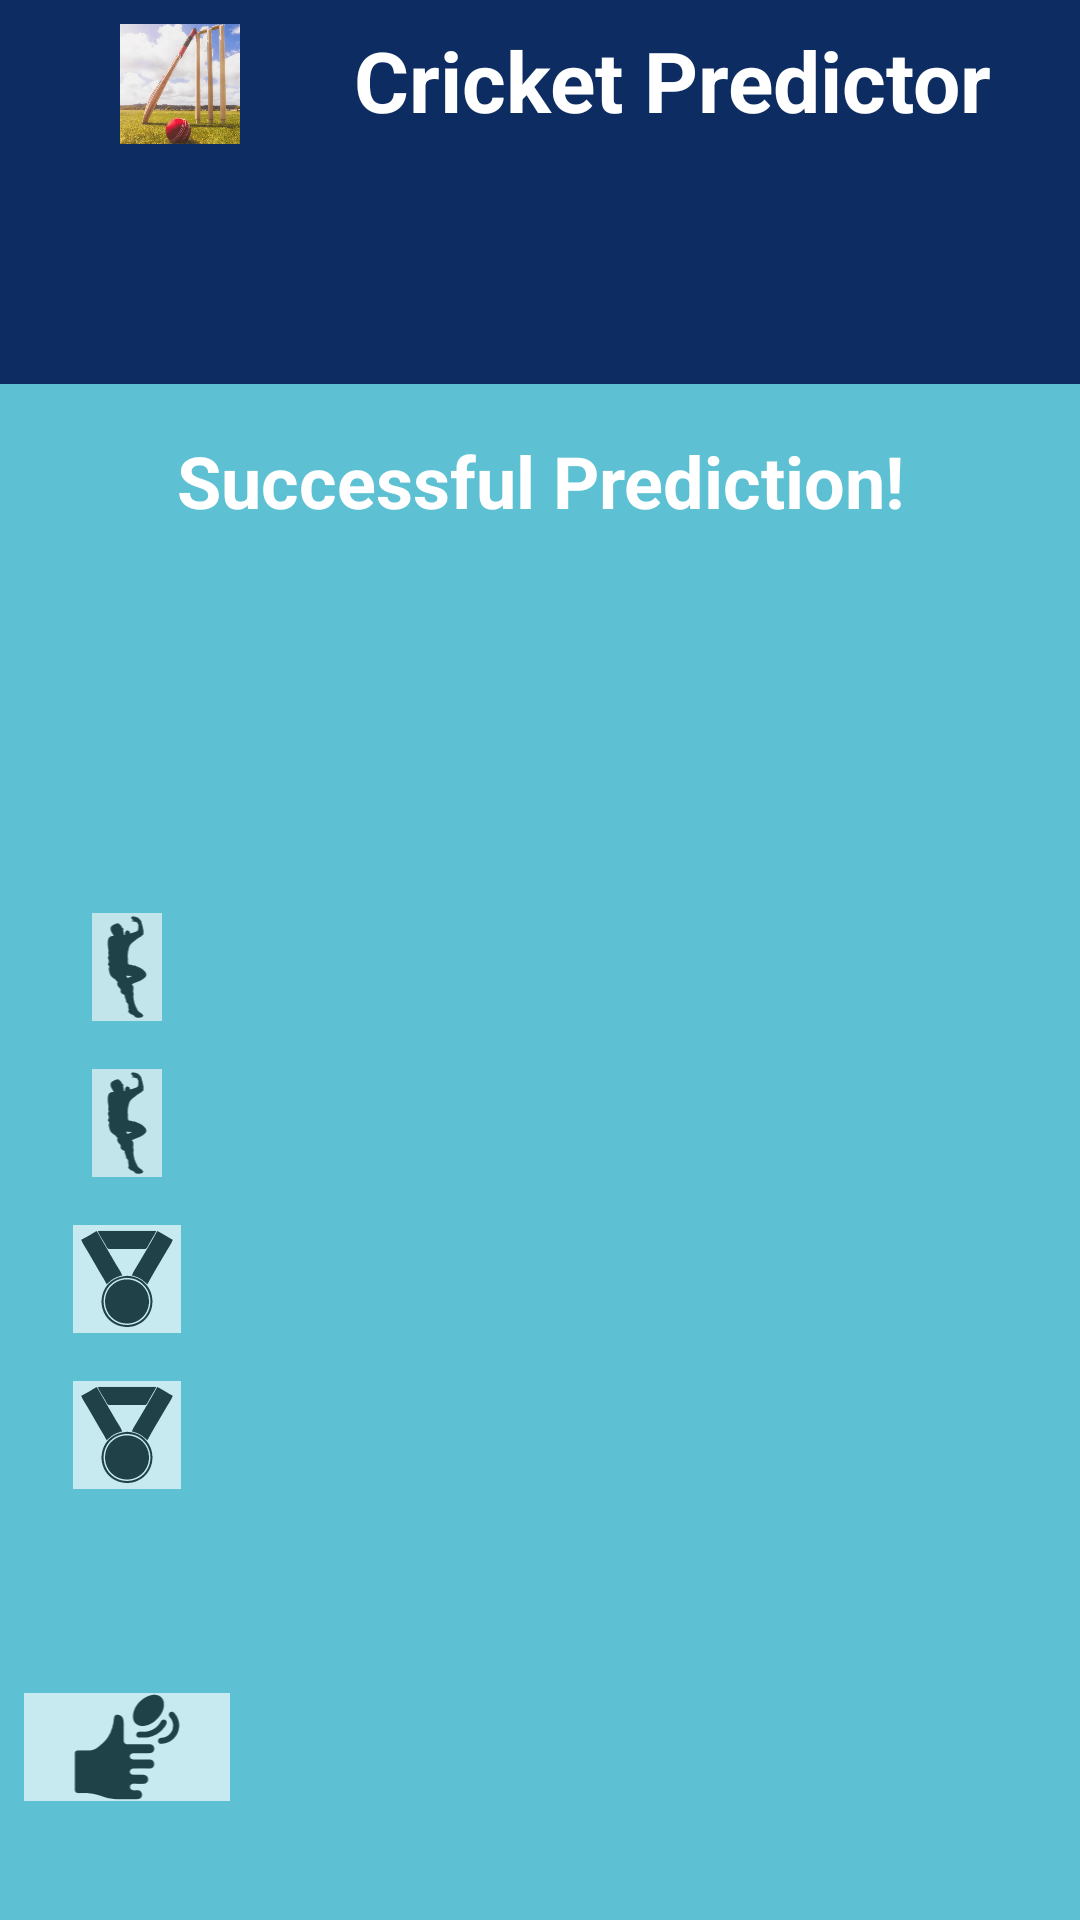

Locate icon controls on the screen. Image size 1080px×1920px, boxes as {"left": x1, "top": y1, "right": x2, "bottom": y2}.
bowler: {"left": 92, "top": 913, "right": 162, "bottom": 1021}, {"left": 92, "top": 1069, "right": 162, "bottom": 1177}
cricpredict: {"left": 120, "top": 24, "right": 240, "bottom": 144}
toss: {"left": 24, "top": 1693, "right": 230, "bottom": 1801}
